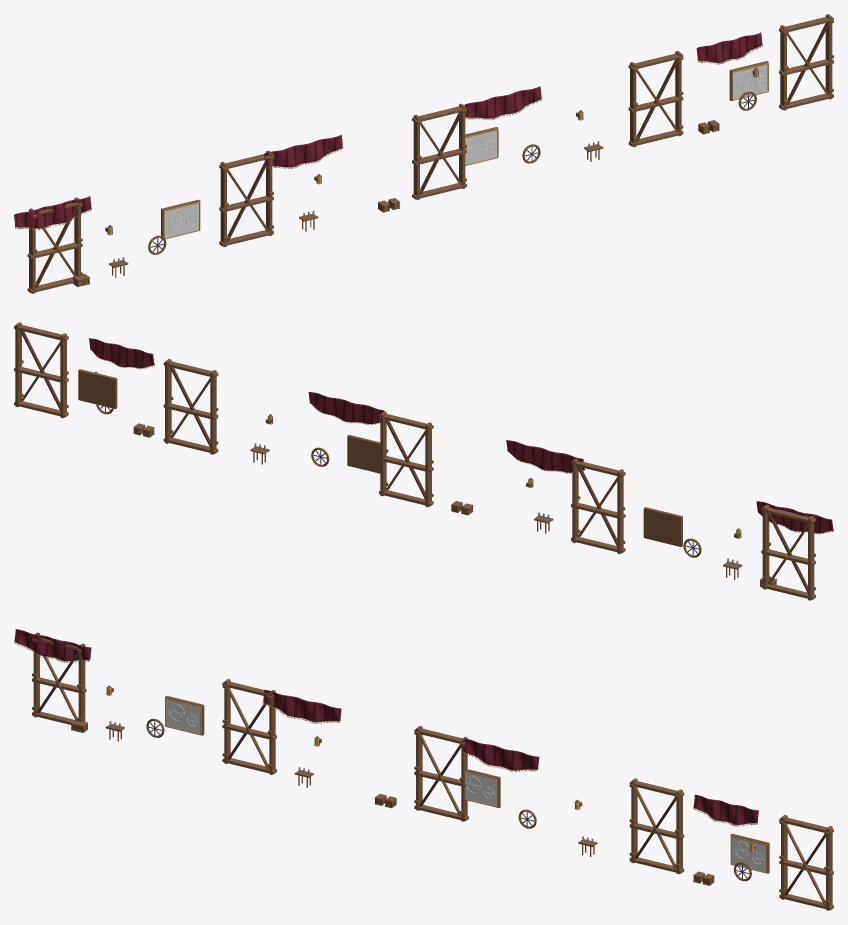
File: SM_Workshop_Production.fbx
3 renders of one model, top to bottom at view 1: azimuth 30°, elevation 25°; view 2: azimuth 150°, elevation 25°; view 3: azimuth 330°, elevation 25°, orthographic.
Visible parts, largest first — view 1: SM_Workshop_Production; view 2: SM_Workshop_Production; view 3: SM_Workshop_Production.
Boxes of the visible parts, x1,y1,x2,y2 form: SM_Workshop_Production: [14, 14, 833, 293]; SM_Workshop_Production: [14, 322, 833, 600]; SM_Workshop_Production: [14, 629, 833, 910].
Bounding box in the file's own units: 5609 × 94 × 552.
